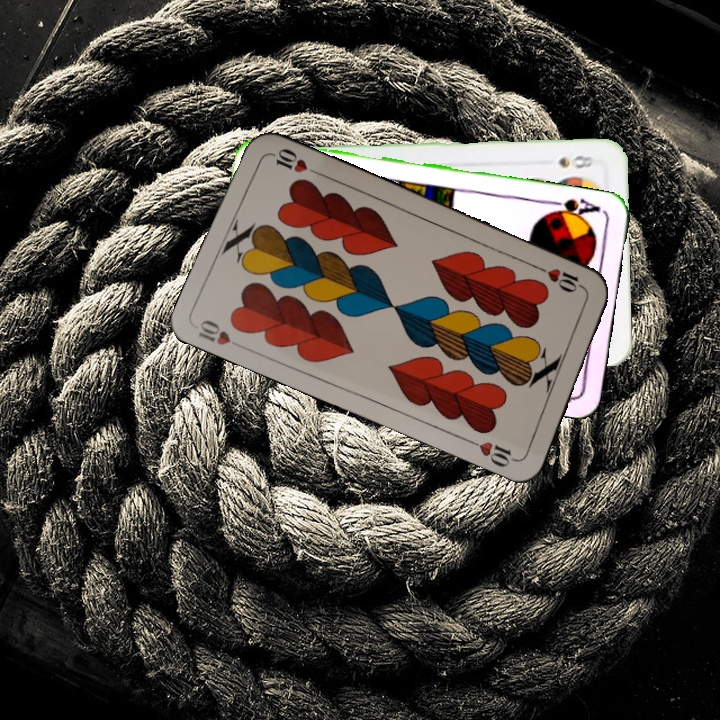H10: (194, 316, 249, 351), (533, 262, 589, 296)
S8: (555, 151, 596, 171)
SA: (544, 194, 603, 223)
